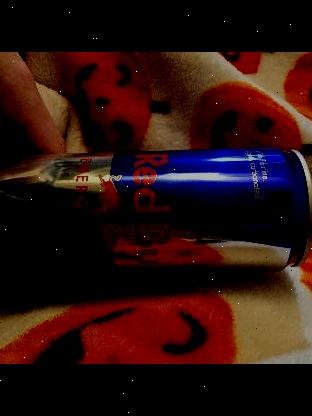Can: (0, 147, 312, 277)
